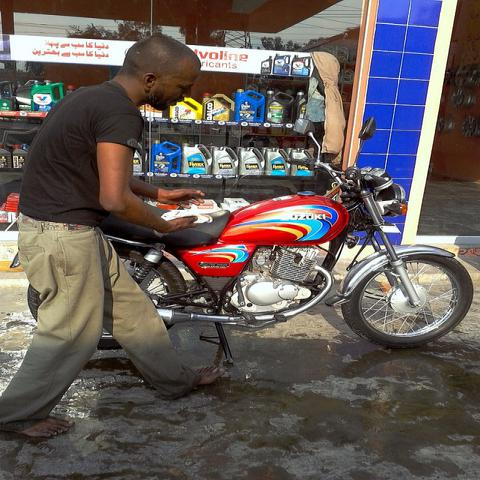motorcycle: (8, 118, 476, 371)
